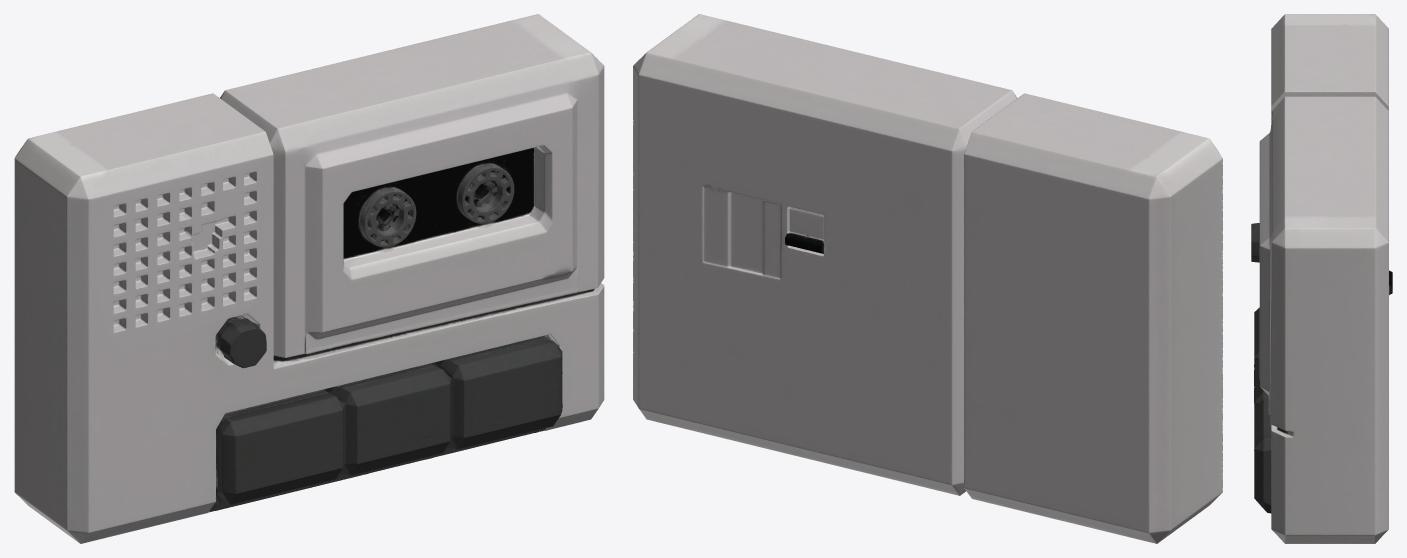
File: Meshy_AI_Geometric_Cassette_De_0617083656_texture.fbx
The picture shows the model from 3 angles, left to right: view 1: azimuth 30°, elevation 25°; view 2: azimuth 150°, elevation 25°; view 3: azimuth 270°, elevation 25°; orthographic projection. The views are drawn at different scales.
Visible parts, largest first — view 1: Mesh_0; view 2: Mesh_0; view 3: Mesh_0.
Boxes of the visible parts, x1=… form: Mesh_0: x1=14, y1=14, x2=604, y2=543; Mesh_0: x1=633, y1=14, x2=1222, y2=543; Mesh_0: x1=1251, y1=14, x2=1392, y2=543.
Bounding box in the file's own units: 190 × 124 × 50.35.
Materials: 1 (1 with a texture image).
